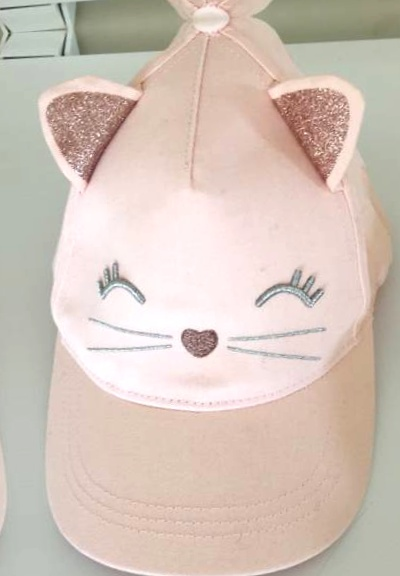Hat: (12, 9, 400, 576), (0, 0, 393, 30), (0, 38, 16, 576), (391, 0, 400, 1)
